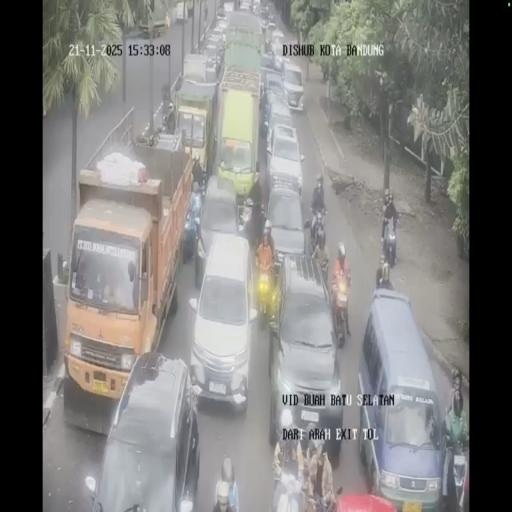car: (356, 286, 442, 502), (88, 353, 200, 509), (267, 255, 341, 450), (197, 173, 244, 278), (263, 186, 305, 266), (266, 112, 304, 194), (260, 69, 286, 128), (182, 52, 213, 90), (204, 30, 225, 72), (258, 0, 276, 38), (260, 48, 284, 74), (214, 4, 228, 20), (239, 0, 251, 12), (252, 0, 261, 14)
motorcycle: (441, 423, 470, 509), (256, 256, 278, 326), (332, 278, 351, 346), (238, 196, 258, 246), (381, 216, 398, 268), (309, 206, 327, 254), (162, 100, 176, 134), (316, 254, 329, 288)
truck: (213, 65, 263, 207), (172, 78, 217, 180), (221, 8, 264, 78), (138, 1, 171, 38)
